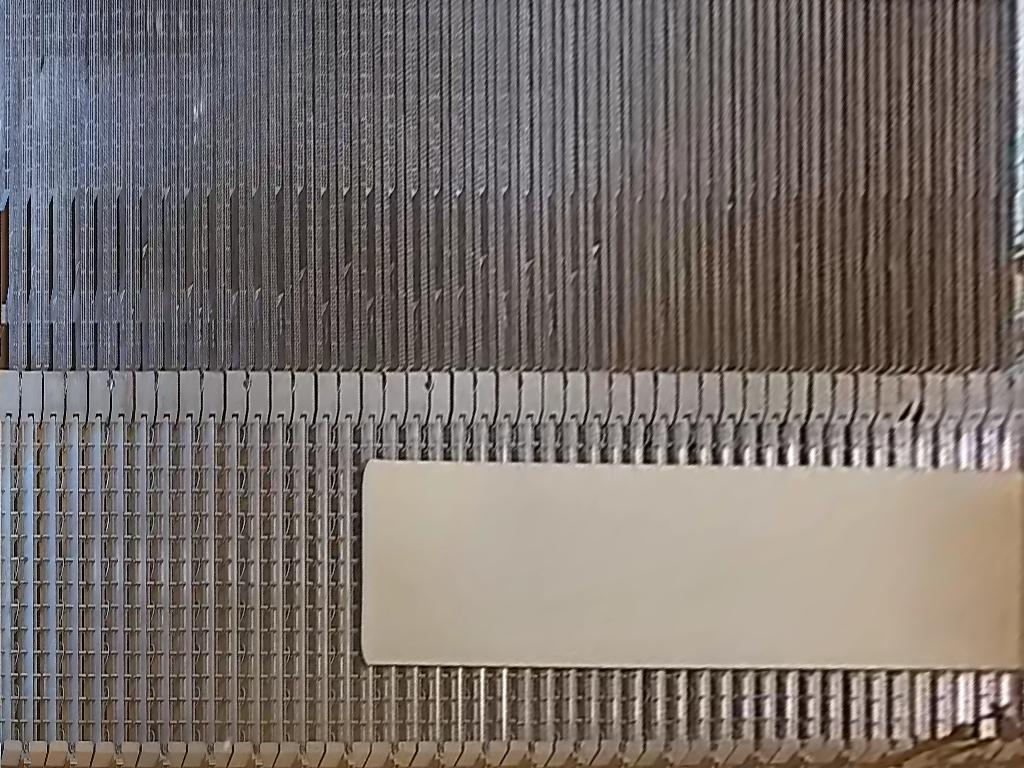steel: (359, 457, 1024, 672)
